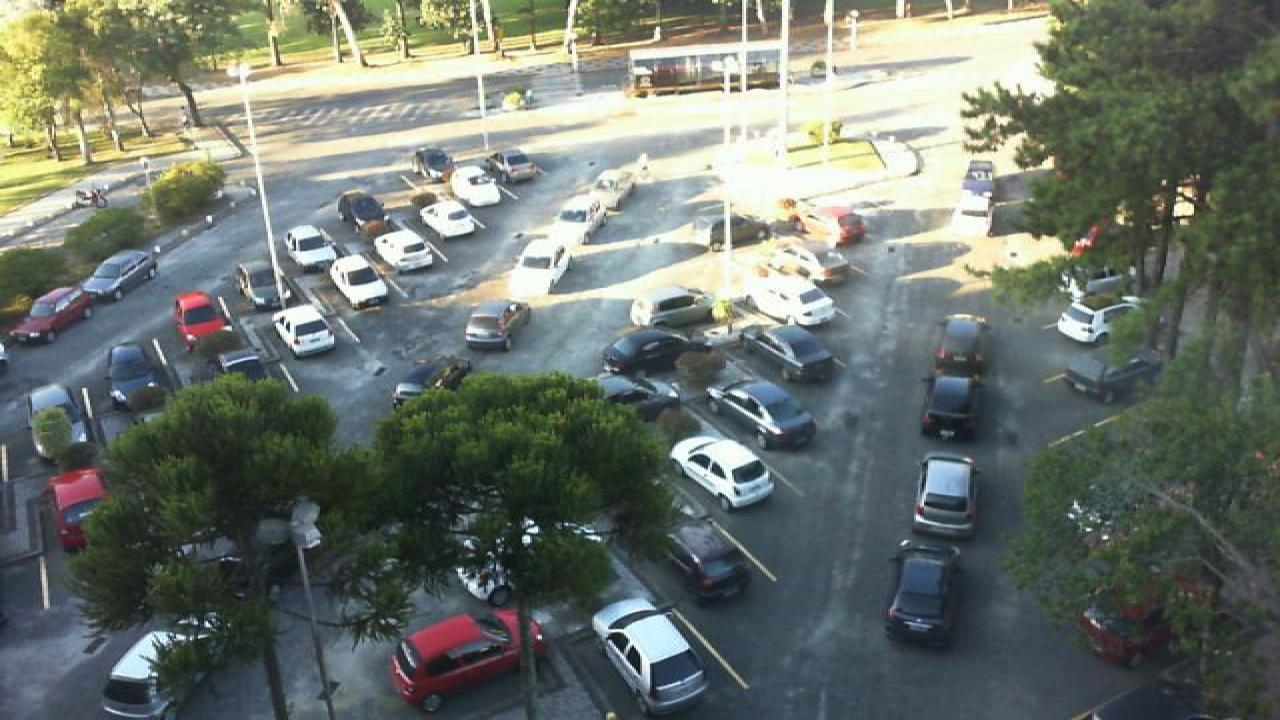Car: (390, 610, 548, 713), (590, 596, 710, 718), (882, 540, 966, 648), (668, 435, 778, 511), (96, 628, 182, 719), (712, 379, 820, 449), (662, 521, 752, 604), (910, 453, 980, 539), (1056, 353, 1166, 407), (746, 323, 842, 382), (736, 274, 840, 328), (8, 286, 96, 345), (48, 468, 108, 552), (920, 370, 986, 443), (388, 356, 476, 410), (598, 326, 690, 374), (78, 248, 160, 301), (1056, 294, 1134, 349), (102, 344, 166, 411), (768, 235, 848, 285), (170, 290, 230, 356), (628, 287, 714, 332), (594, 374, 676, 420), (932, 312, 992, 374), (462, 298, 532, 350), (26, 403, 80, 469), (272, 307, 336, 359), (330, 256, 392, 308), (516, 240, 574, 292), (370, 229, 436, 274), (798, 204, 864, 246), (234, 261, 288, 312), (552, 197, 606, 243), (418, 198, 476, 240), (450, 166, 506, 209), (338, 190, 390, 235), (284, 225, 336, 269), (588, 166, 640, 210), (408, 146, 456, 184), (500, 148, 544, 182), (960, 160, 996, 199)
